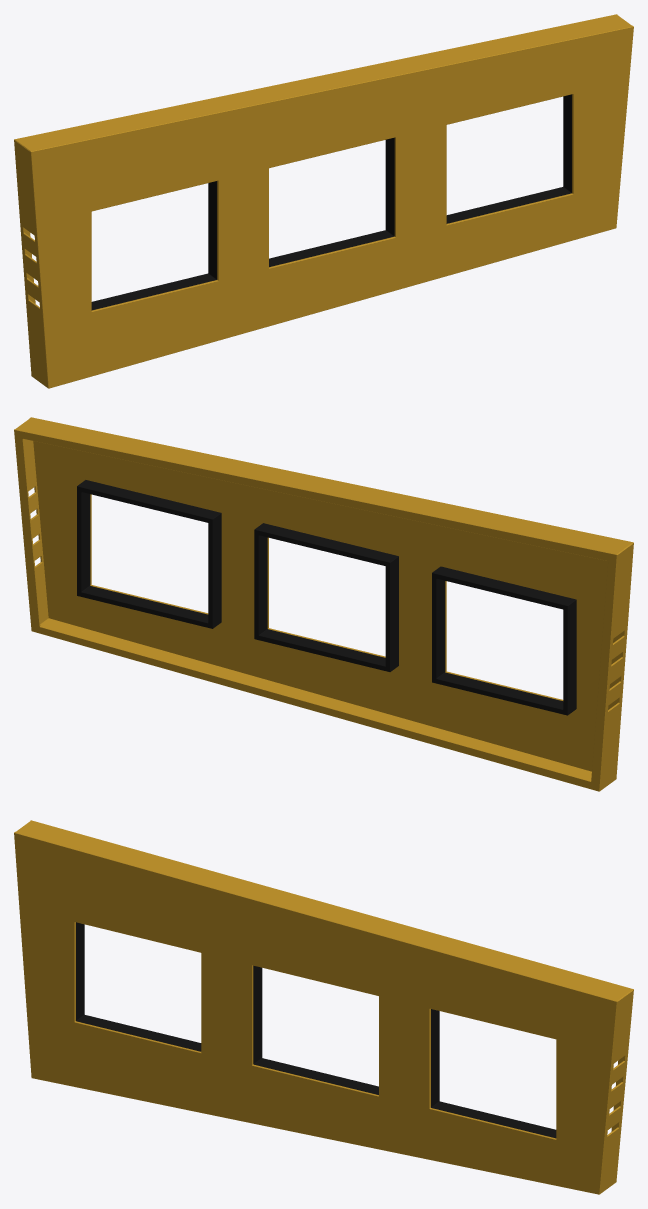
File: tv-wall-bank.glb
3 views of the same model, one above another, from view 1: azimuth 30°, elevation 25°; view 2: azimuth 150°, elevation 25°; view 3: azimuth 330°, elevation 25° (orthographic).
Visible parts, largest first — view 1: WallBank_HousingAmber, WallBank_RecessHardware; view 2: WallBank_HousingAmber, WallBank_RecessHardware; view 3: WallBank_HousingAmber, WallBank_RecessHardware.
Boxes of the visible parts, left/top/right/bottom form: WallBank_HousingAmber: left=14, top=14, right=633, bottom=388; WallBank_RecessHardware: left=91, top=94, right=571, bottom=310; WallBank_HousingAmber: left=14, top=417, right=633, bottom=791; WallBank_RecessHardware: left=77, top=480, right=576, bottom=715; WallBank_HousingAmber: left=14, top=820, right=633, bottom=1194; WallBank_RecessHardware: left=76, top=922, right=556, bottom=1138.
Size of the model in its own units: 10.2 by 3.9 by 0.5.
